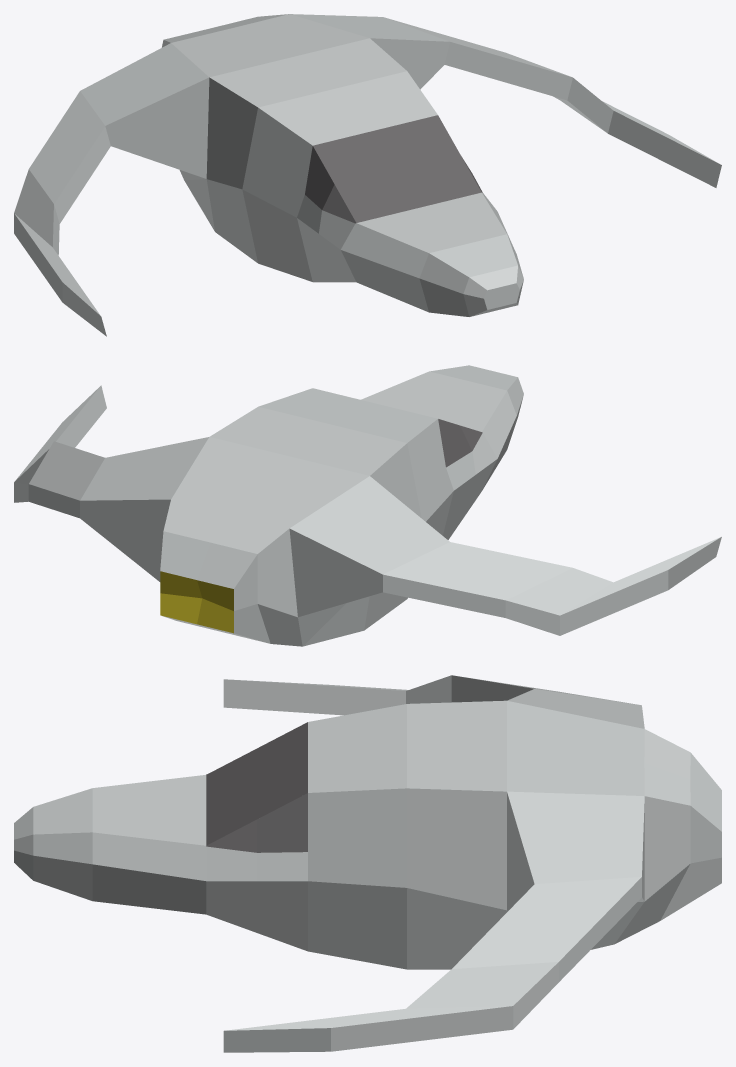
File: MarkOne.fbx
3 views of the same model, one above another, from view 1: azimuth 30°, elevation 25°; view 2: azimuth 150°, elevation 25°; view 3: azimuth 270°, elevation 25° (orthographic). The views are drawn at different scales.
Parts seen in each view (by area): view 1: Cube; view 2: Cube; view 3: Cube.
Part boxes in pixels (x1,y1,x2,y2): Cube: [14, 14, 721, 336]; Cube: [14, 365, 721, 646]; Cube: [14, 675, 721, 1052].
Size of the model in its own units: 832 by 200 by 708.
